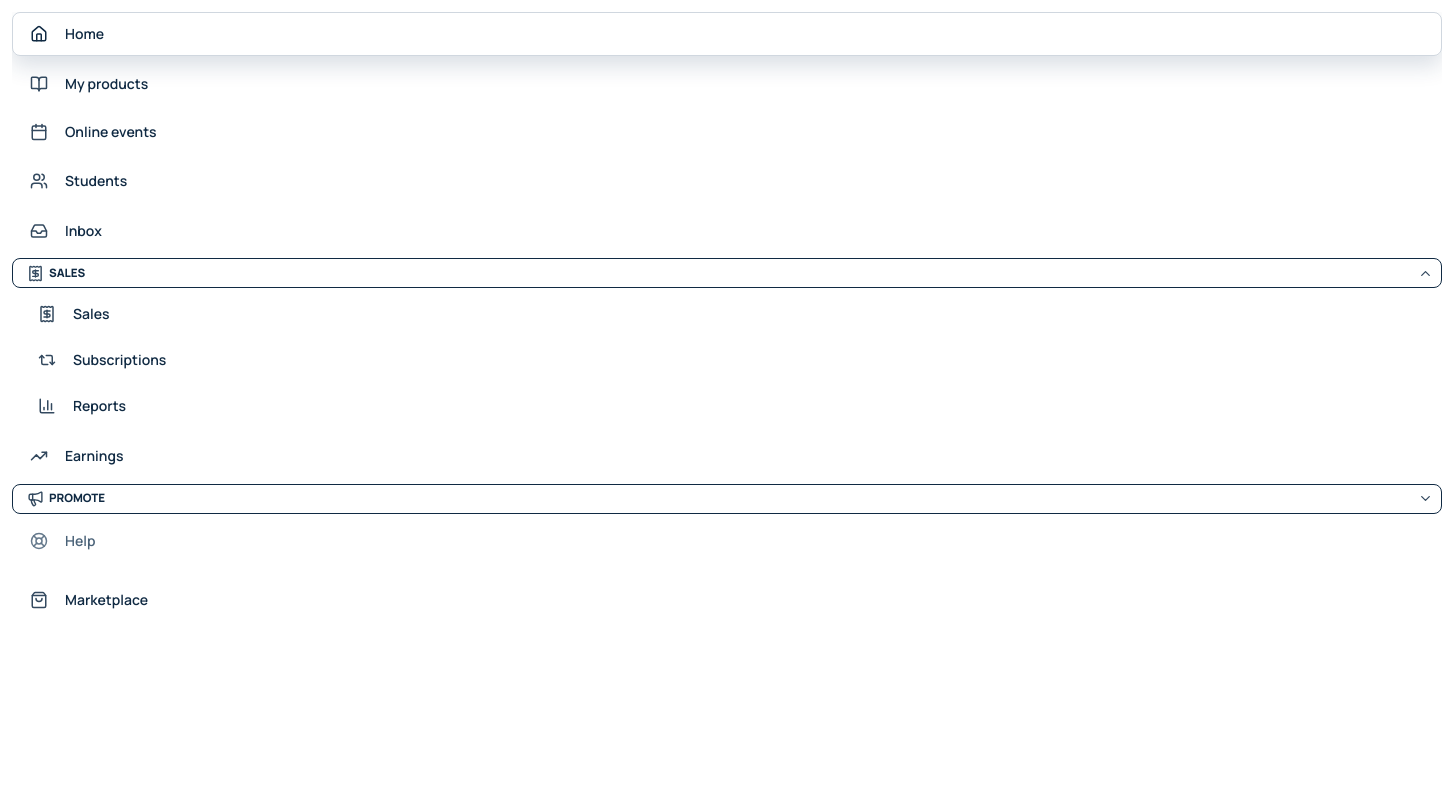
it: barra do professor › Vendas e Promover sao os dois unicos grupos
Click the button "Promote" at (77, 498), box [12,484,1442,514]
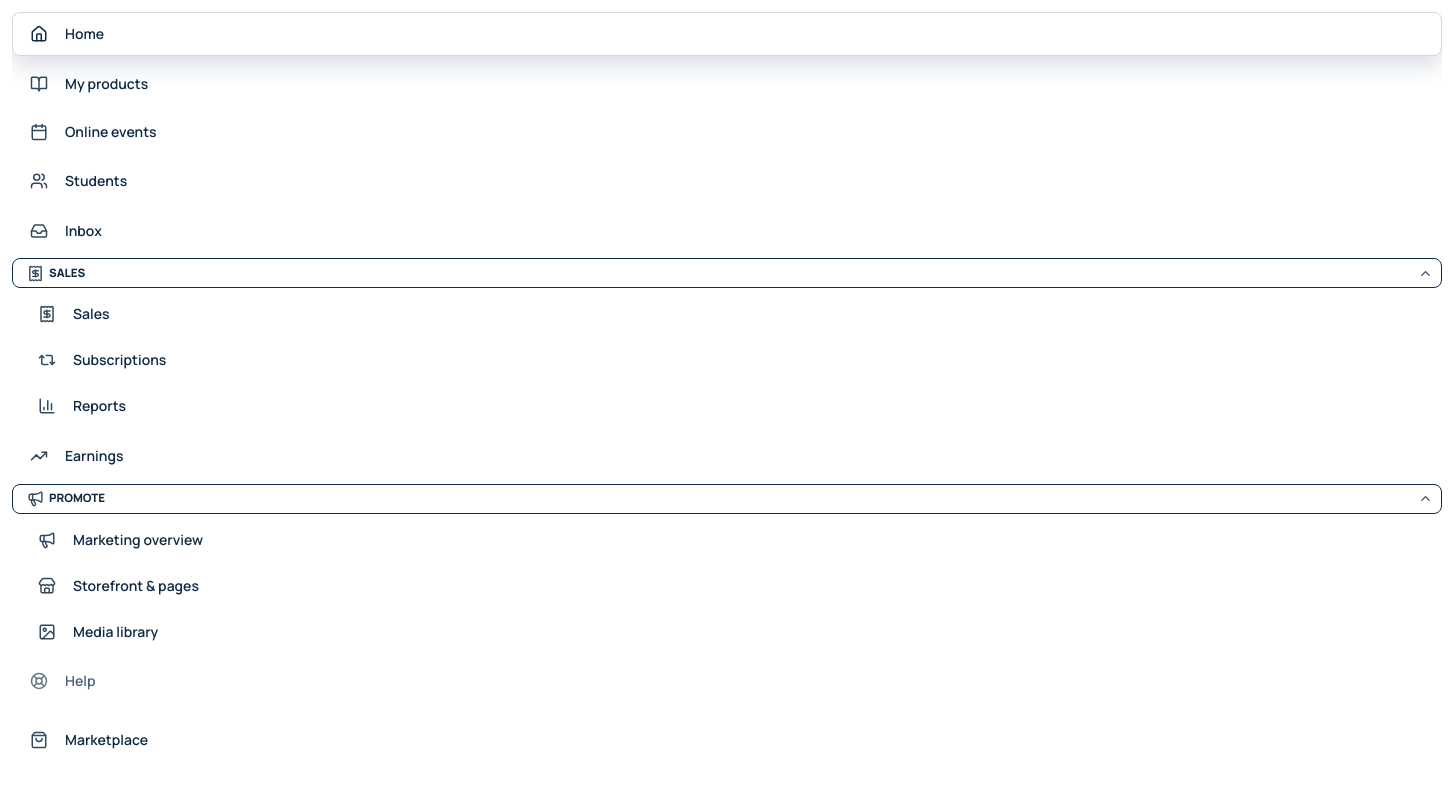
Expected: the button "Promote" is expanded, [12,484,1442,514]
